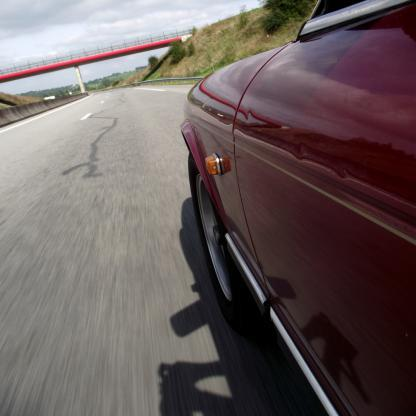car: (184, 8, 406, 394)
